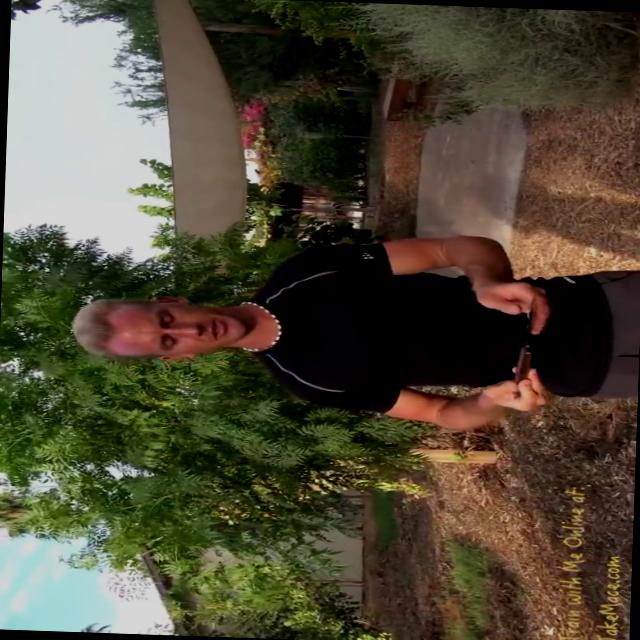knife: (492, 286, 556, 392)
